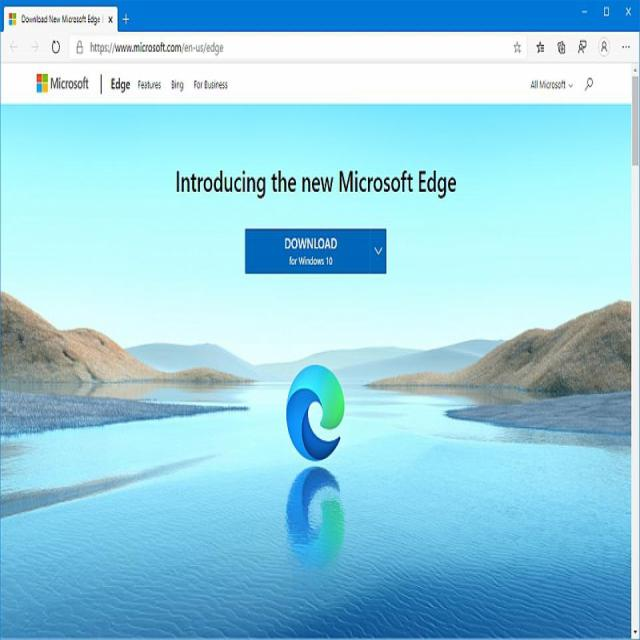button: (245, 228, 371, 275), (4, 6, 117, 34), (30, 67, 91, 99), (192, 70, 234, 99), (106, 70, 133, 97), (135, 71, 162, 98), (632, 75, 640, 164), (164, 71, 190, 98), (372, 229, 386, 274), (581, 72, 598, 98), (46, 33, 62, 60), (619, 3, 639, 22), (596, 4, 617, 22), (119, 7, 134, 32), (574, 36, 590, 58), (533, 37, 549, 59), (28, 34, 41, 59), (618, 38, 636, 56), (576, 4, 594, 21), (555, 37, 569, 58), (7, 36, 19, 58), (598, 36, 610, 57), (73, 39, 86, 57), (512, 39, 523, 55), (632, 63, 640, 77), (632, 626, 640, 639), (108, 13, 114, 26)
field: (70, 34, 527, 60)
